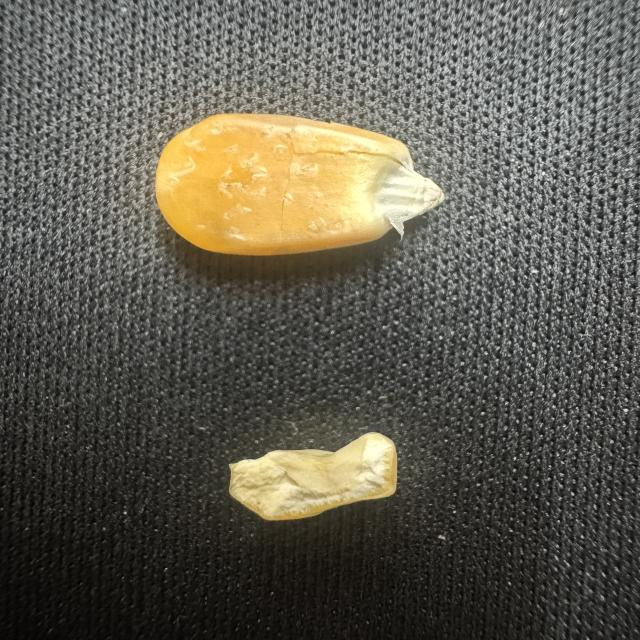Bad-Seed: (210, 421, 424, 528)
Good-Seed: (146, 105, 451, 266)
